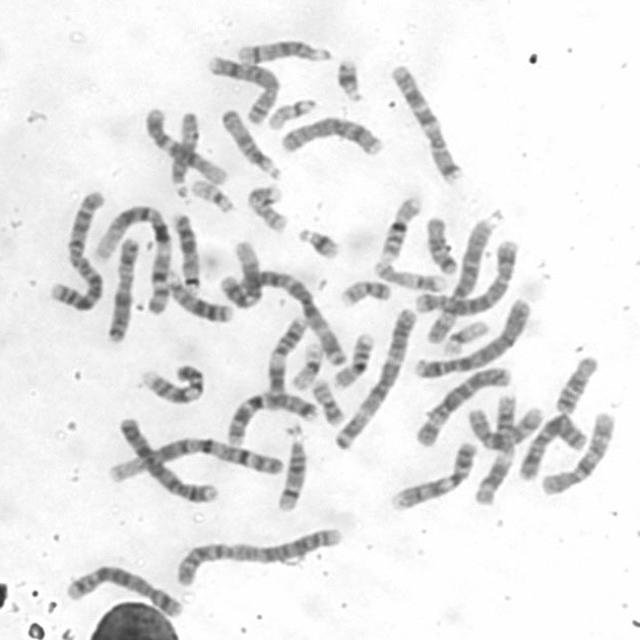A1: (95, 202, 172, 318), (110, 436, 284, 483)
A2: (173, 525, 345, 588), (46, 189, 108, 313)
A3: (333, 306, 417, 452), (241, 267, 352, 369)
B4: (414, 297, 534, 380), (117, 416, 221, 508)
B5: (413, 236, 521, 316), (64, 565, 187, 623)
C10: (538, 409, 621, 497), (466, 404, 547, 453)
C11: (472, 393, 522, 508), (267, 318, 308, 396)
C12: (143, 107, 230, 187), (221, 239, 264, 308)
C6: (424, 217, 496, 346), (415, 365, 517, 448)
C7: (389, 61, 465, 185), (223, 390, 322, 448)
C8: (208, 53, 282, 124), (278, 116, 385, 160)
C9: (388, 439, 478, 512), (140, 364, 203, 405)
D13: (163, 268, 236, 324), (168, 212, 203, 292)
D14: (274, 417, 310, 516), (236, 39, 332, 66)
D15: (220, 109, 284, 180), (168, 111, 201, 199)
E16: (379, 195, 425, 263), (333, 331, 375, 388)
E17: (374, 260, 448, 294), (246, 183, 290, 234)
E18: (554, 354, 602, 416), (425, 215, 460, 277)
F19: (287, 341, 325, 395), (442, 317, 491, 357)
F20: (308, 376, 343, 430), (337, 279, 393, 310)
G21: (296, 225, 344, 264), (335, 57, 366, 104)
G22: (189, 175, 236, 216), (266, 96, 319, 131)
X: (515, 413, 590, 481), (106, 236, 141, 345)
